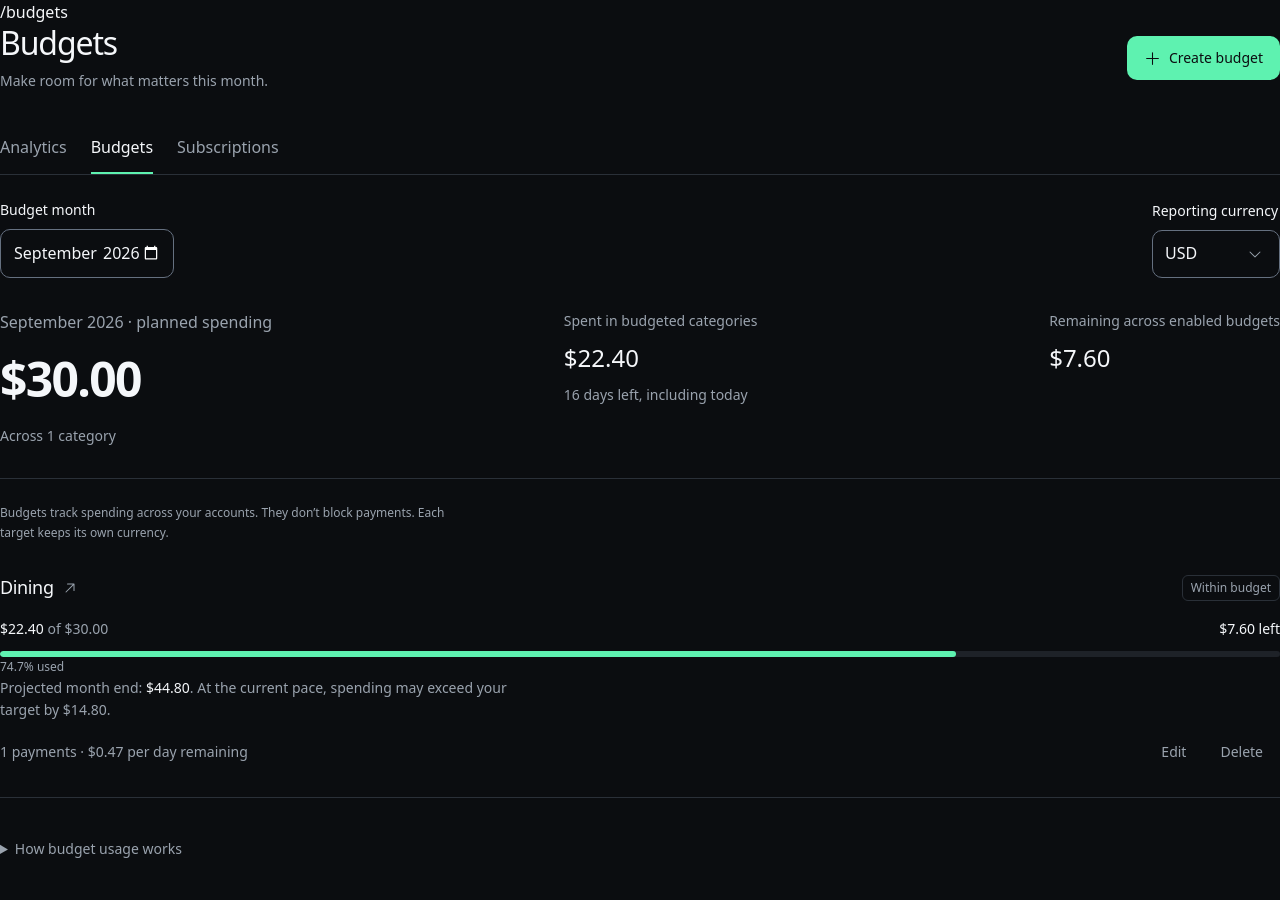
budget edit failure retains the confirmed target and explains a stale revision
The image size is (1280, 900).
Click the button with aria-label "Edit Dining budget". click: click(1174, 751)
box: [1144, 729, 1204, 773]
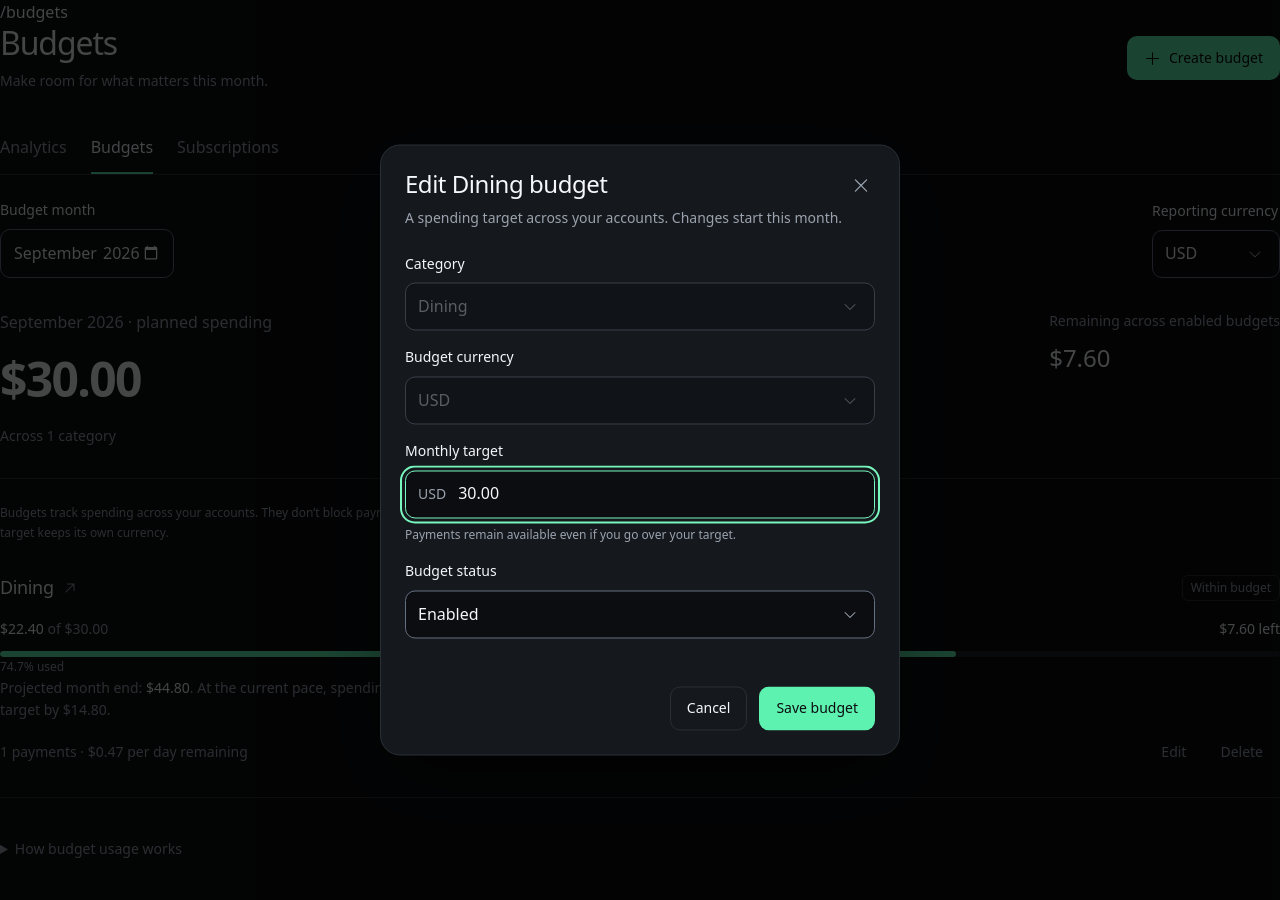
Replace the text in the field named "Monthly target (USD)" with "50.00". click: (660, 494)
box: [446, 471, 874, 517]
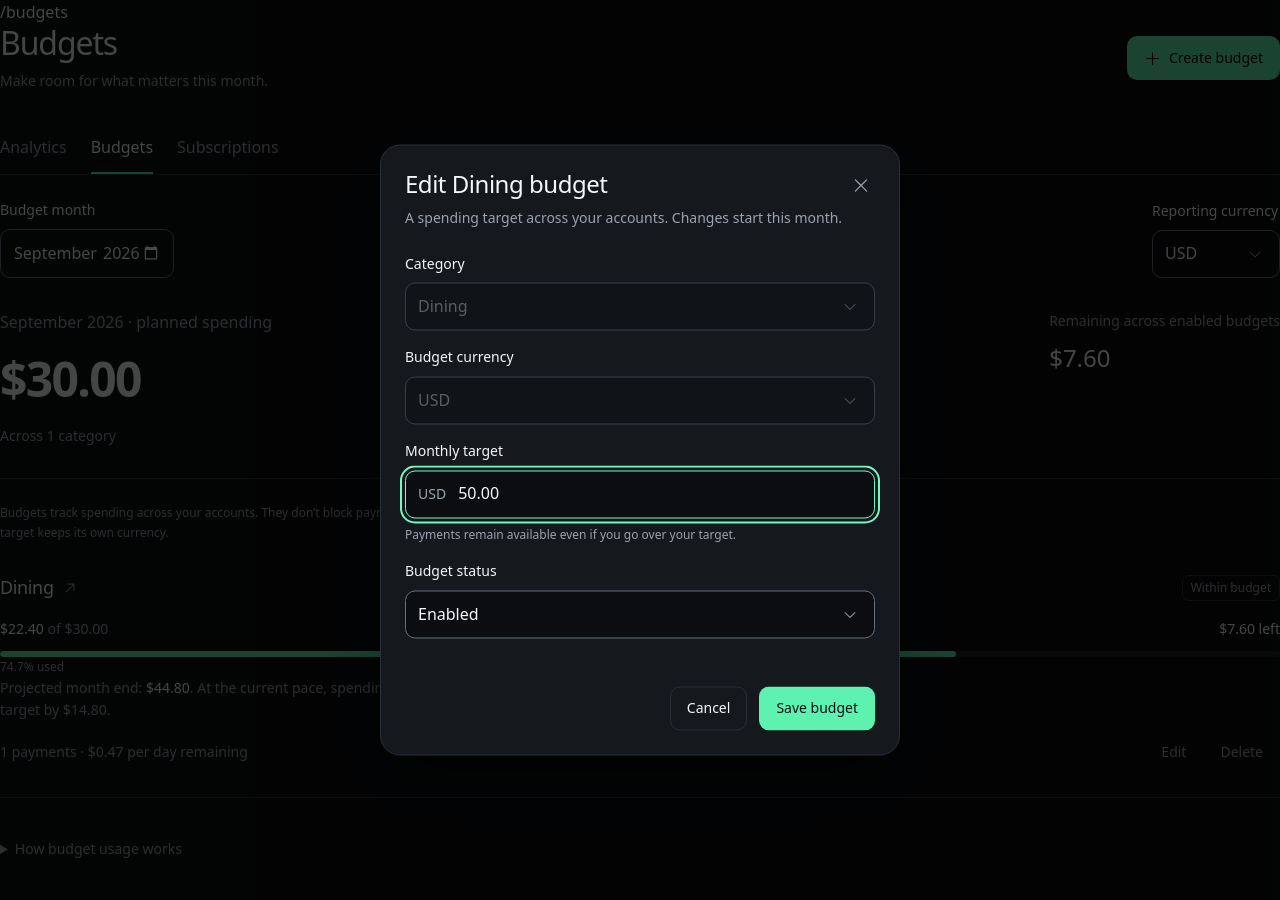
Click the button "Save budget". click: click(817, 708)
box: [759, 686, 875, 730]
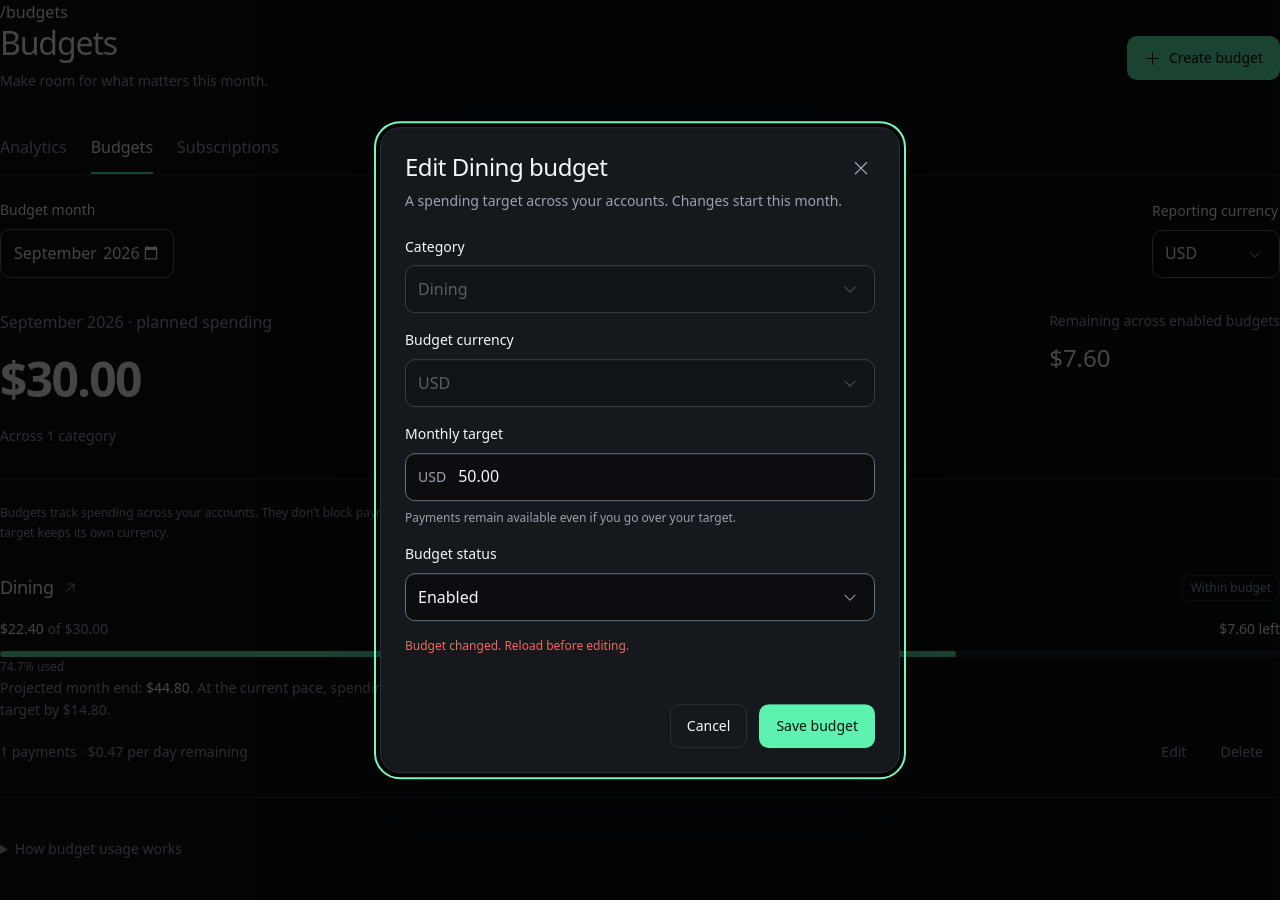
Result: the message shows "Reload before editing" at [405, 637, 629, 654]
Click the button "Cancel". click: click(709, 726)
box: [670, 704, 747, 748]
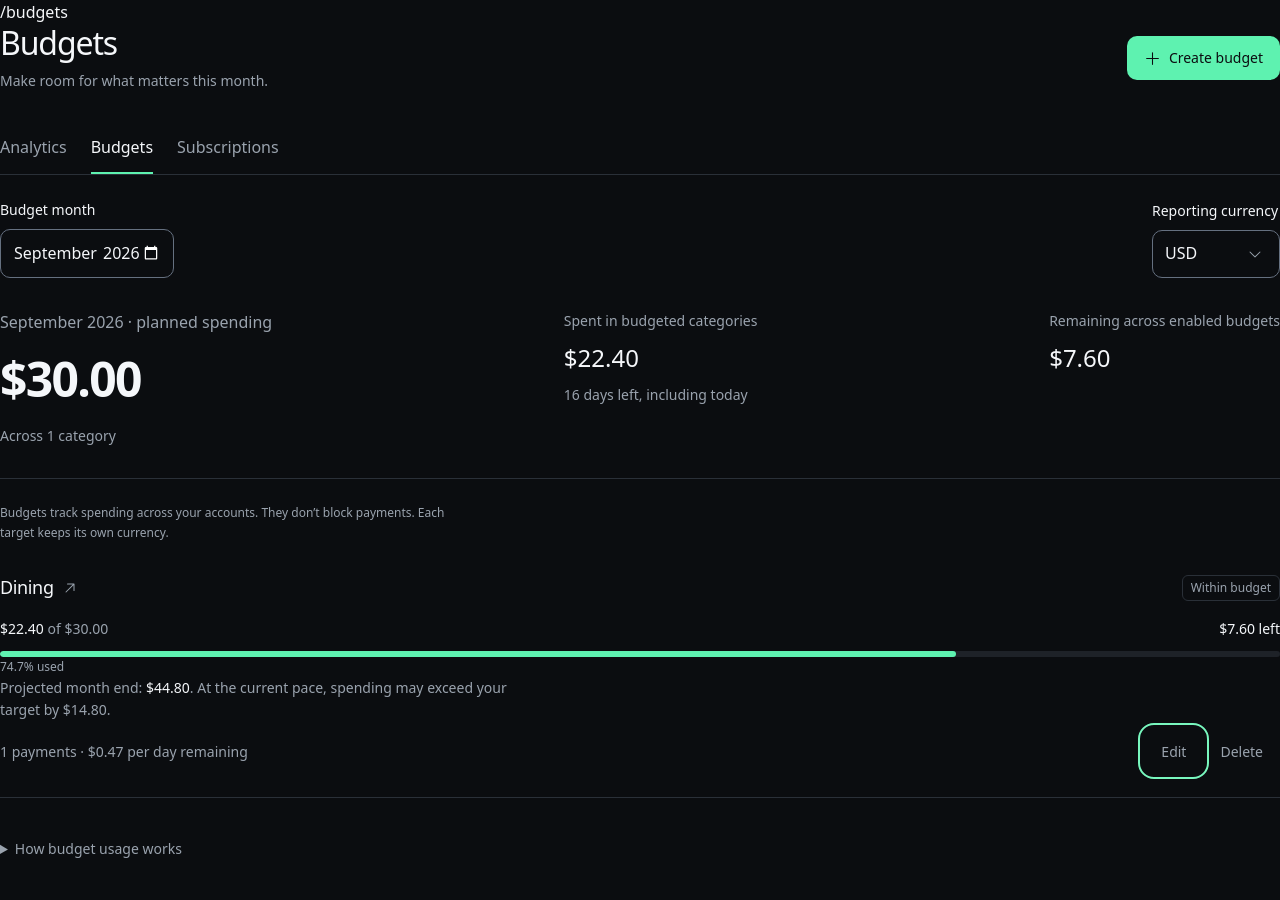
Result: the dialog is gone
